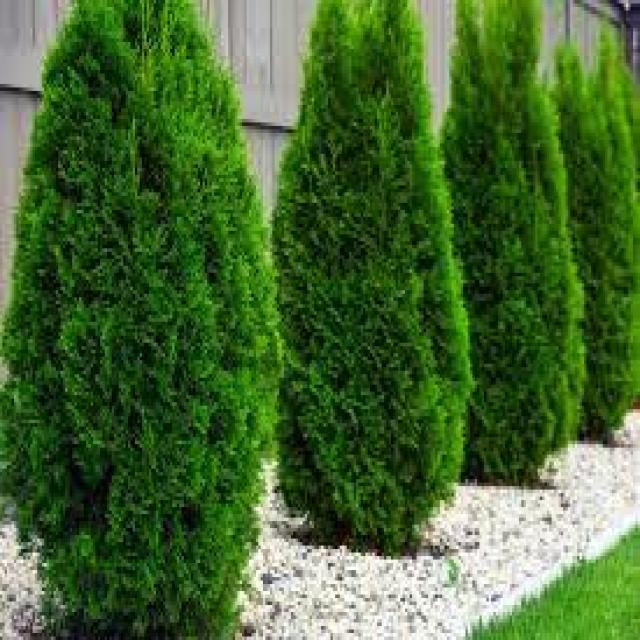foliage: (0, 0, 284, 637), (272, 0, 475, 560), (440, 0, 584, 486), (554, 45, 638, 441)
